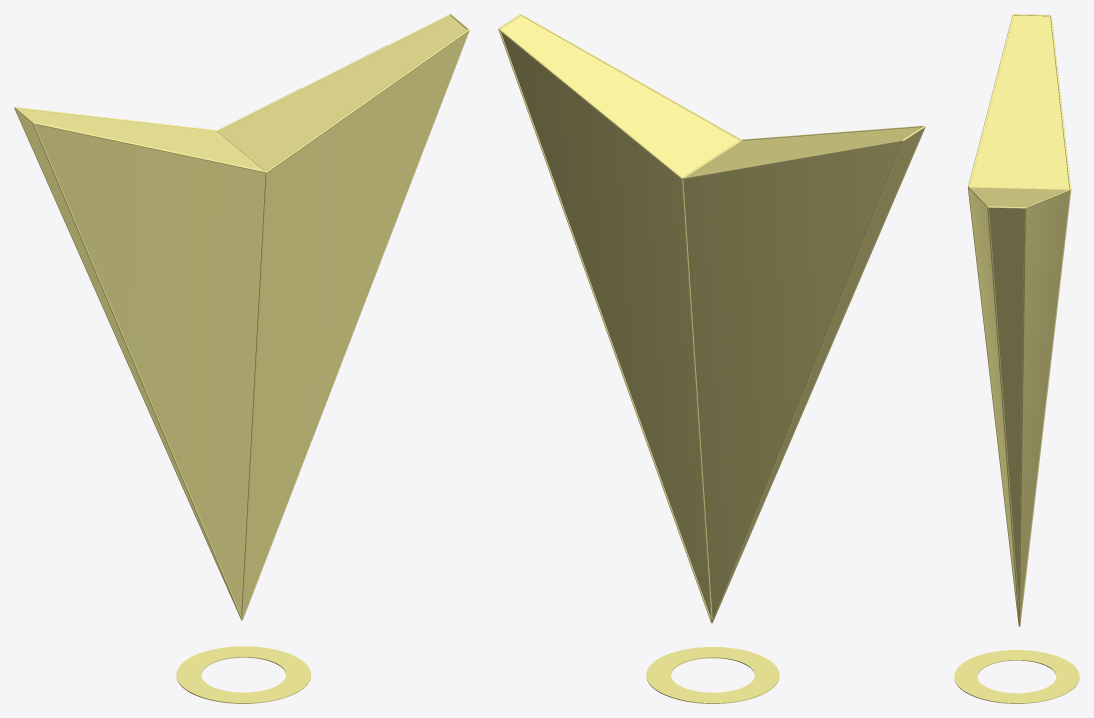
File: huang.gltf
The picture shows the model from 3 angles, left to right: view 1: azimuth 30°, elevation 25°; view 2: azimuth 150°, elevation 25°; view 3: azimuth 270°, elevation 25°; orthographic projection. The views are drawn at different scales.
Parts seen in each view (by area): view 1: 水质_水文; view 2: 水质_水文; view 3: 水质_水文.
Boxes of the visible parts, <box> form: 水质_水文: <box>14,14,469,703</box>; 水质_水文: <box>498,14,925,703</box>; 水质_水文: <box>954,14,1079,703</box>.
Size of the model in its own units: 7.57 by 10.31 by 2.07.
